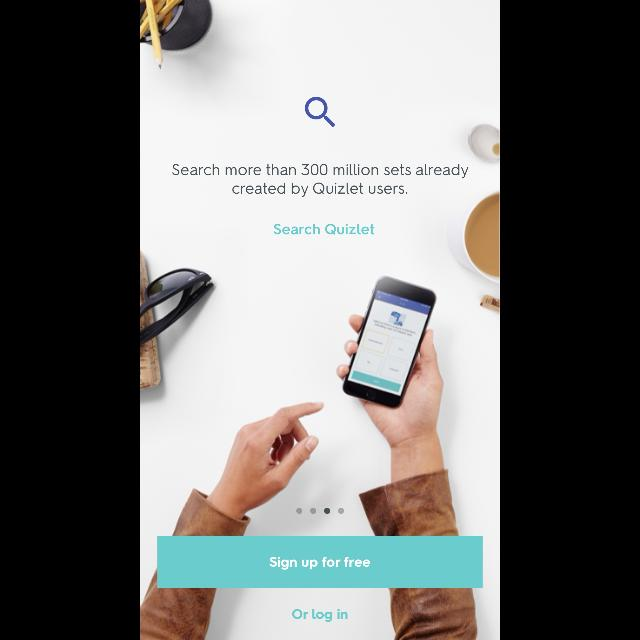backgroundimage: (140, 1, 500, 640)
icon: (304, 96, 336, 128)
pageindicator: (296, 508, 344, 514)
text: (173, 165, 469, 198), (274, 223, 374, 234), (292, 610, 348, 622)
textbutton: (158, 536, 482, 588)
